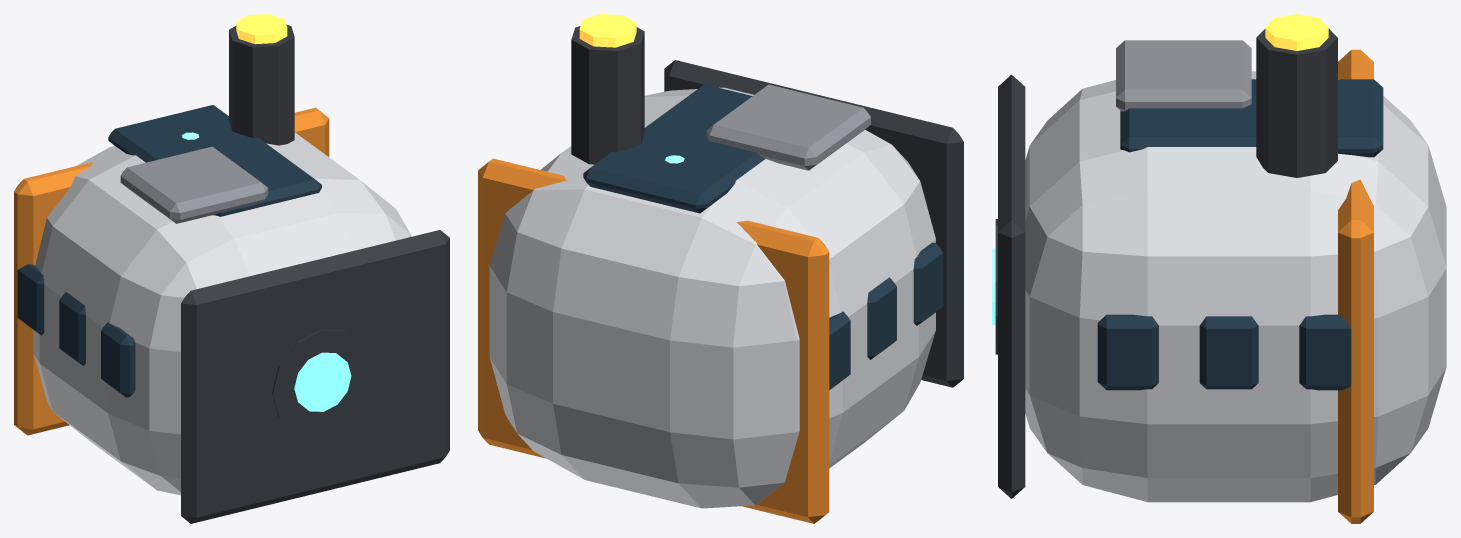
File: kitchen.glb
3 views of the same model, side by side, from view 1: azimuth 30°, elevation 25°; view 2: azimuth 150°, elevation 25°; view 3: azimuth 270°, elevation 25° (orthographic). The views are drawn at different scales.
Parts seen in each view (by area): view 1: kitchen; view 2: kitchen; view 3: kitchen.
Part boxes in pixels (x1=…): kitchen: x1=14, y1=14, x2=449, y2=523; kitchen: x1=478, y1=14, x2=963, y2=523; kitchen: x1=992, y1=14, x2=1446, y2=523.
Bounding box in the file's own units: 0.95 × 1.14 × 1.
